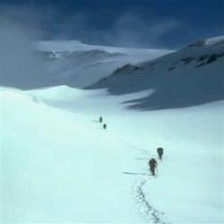neutral: (2, 1, 224, 74)
